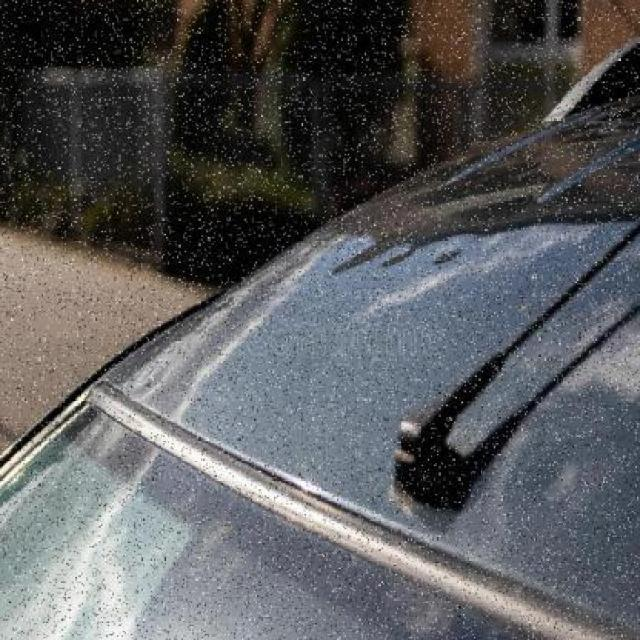roof-dent: (146, 190, 499, 613), (491, 139, 618, 551)
